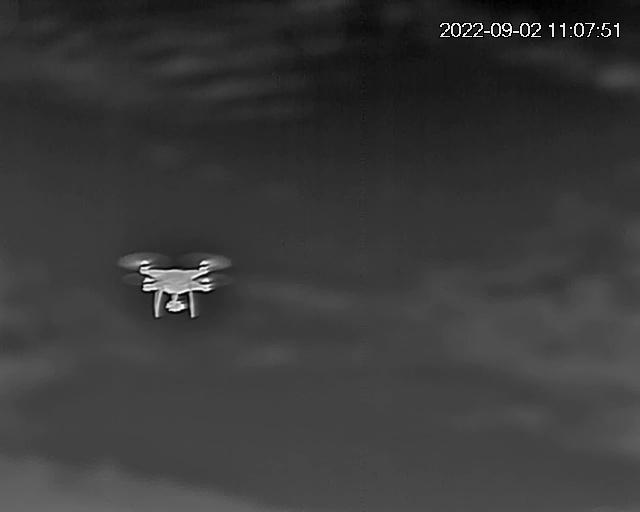DJI-Phantom: (120, 255, 230, 322)
